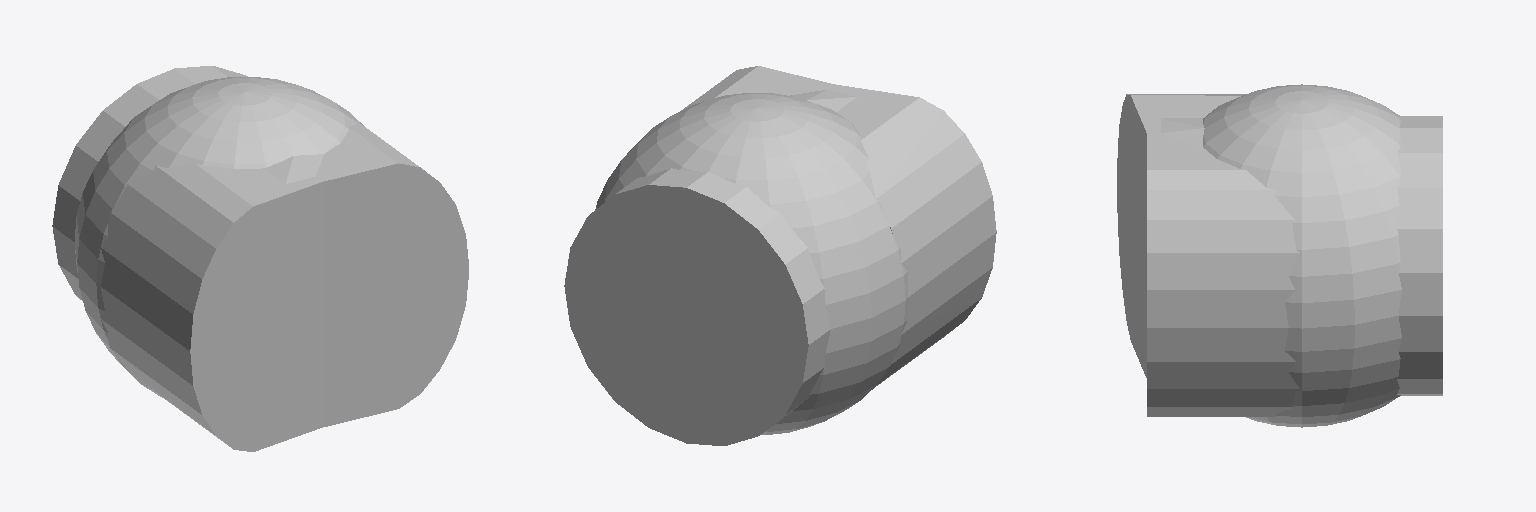
File: HeadYaw.obj
3 views of the same model, side by side, from view 1: azimuth 30°, elevation 25°; view 2: azimuth 150°, elevation 25°; view 3: azimuth 270°, elevation 25° (orthographic).
Visible parts, largest first — view 1: HeadYaw_JULIETTE_TETE GROUPE_; view 2: HeadYaw_JULIETTE_TETE GROUPE_; view 3: HeadYaw_JULIETTE_TETE GROUPE_.
Part boxes in pixels (left/top/right/bottom): HeadYaw_JULIETTE_TETE GROUPE_: left=52, top=66, right=468, bottom=451; HeadYaw_JULIETTE_TETE GROUPE_: left=564, top=66, right=996, bottom=445; HeadYaw_JULIETTE_TETE GROUPE_: left=1117, top=84, right=1442, bottom=427.
Size of the model in its own units: 0.6554 by 0.6554 by 0.6225.